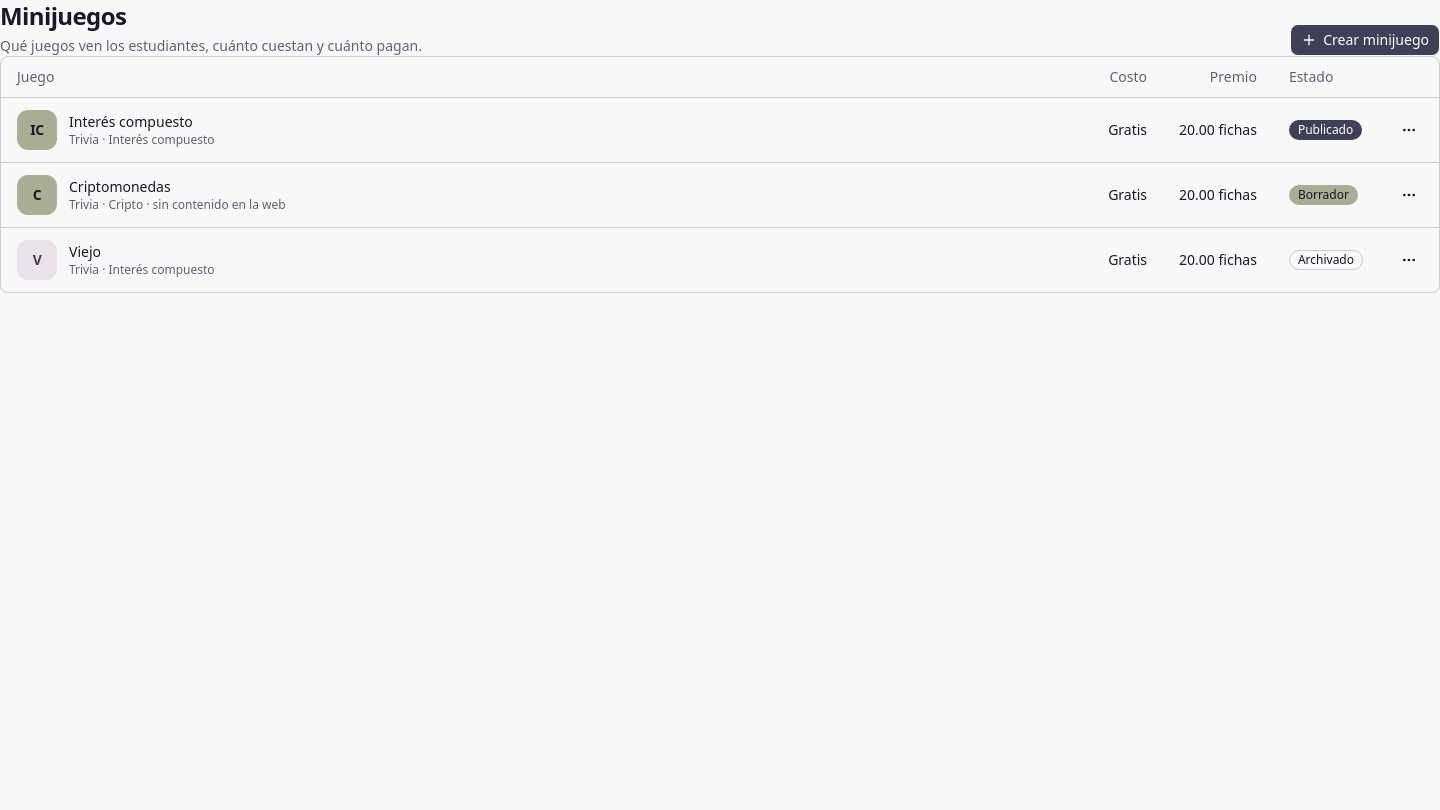
Test case: AdminMinigamesPage › un titulo repetido se marca en el campo
Click the button "Crear minijuego".
click(1365, 40)  # box [1290, 24, 1439, 56]
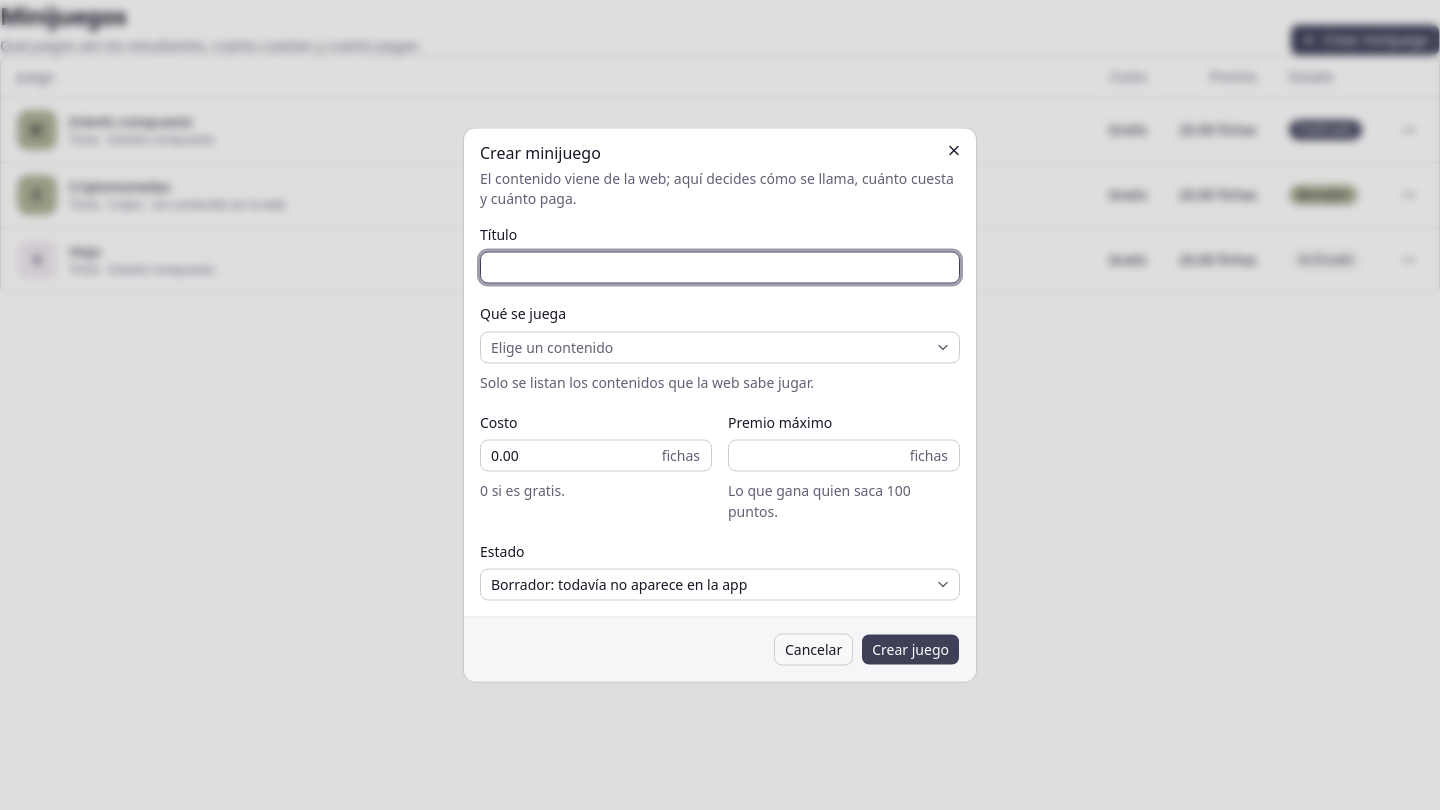
Type "Interés compuesto" into the field labelled "Título".
click(720, 268); type("Interés compuesto")  # box [480, 252, 960, 284]
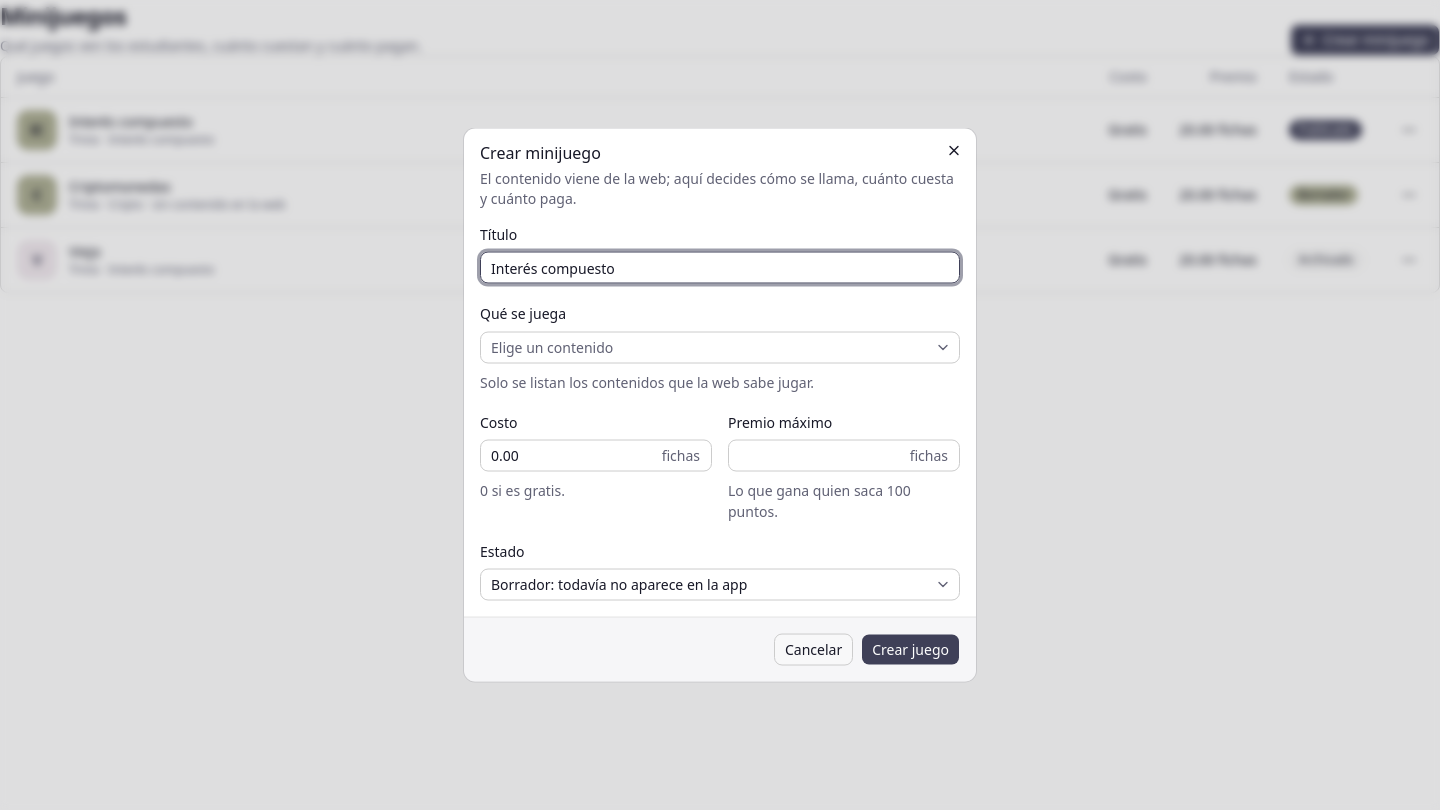
Click the dropdown named "Qué se juega".
click(552, 346)  # box [480, 331, 960, 363]
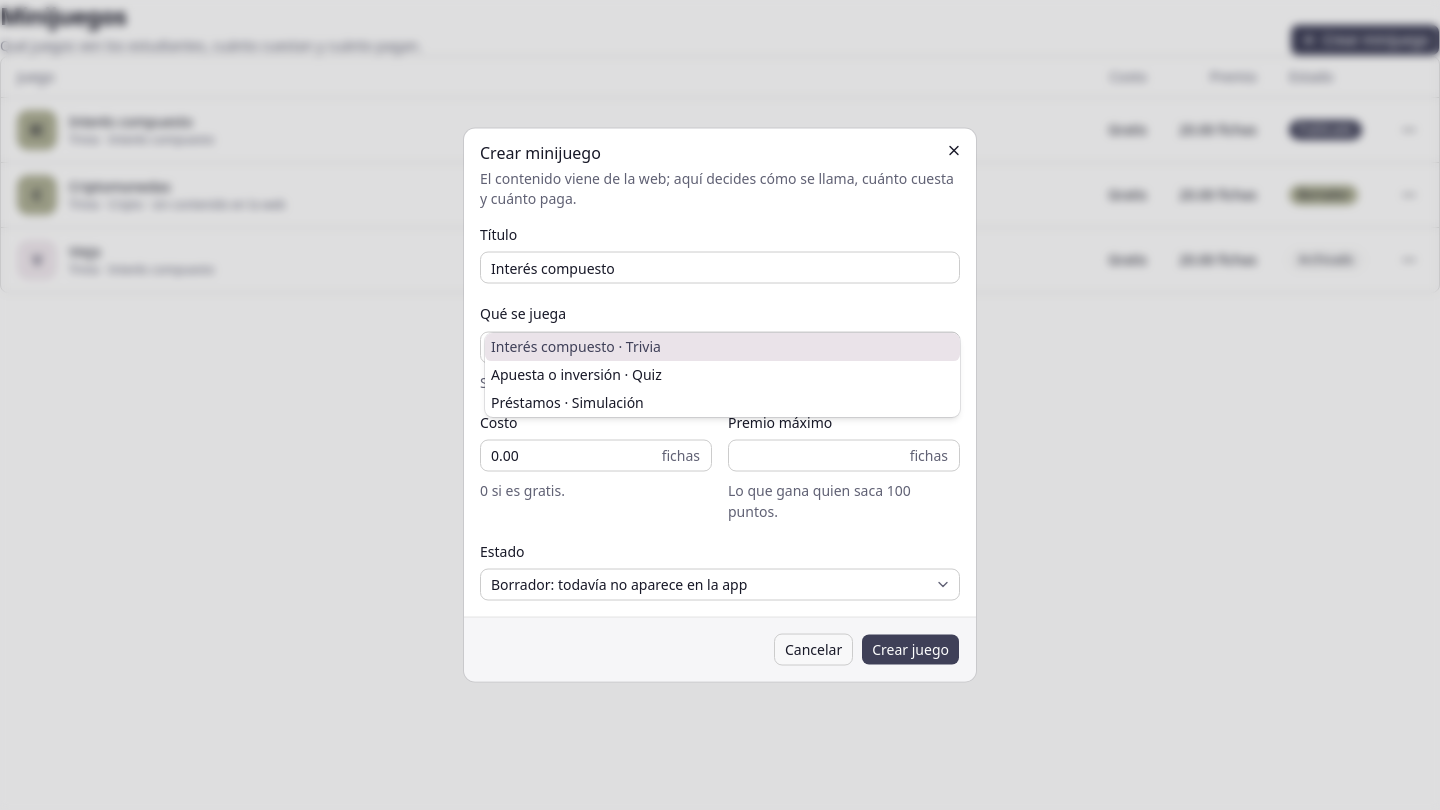
Click the option "Interés compuesto · Trivia".
click(553, 346)  # box [485, 333, 960, 361]
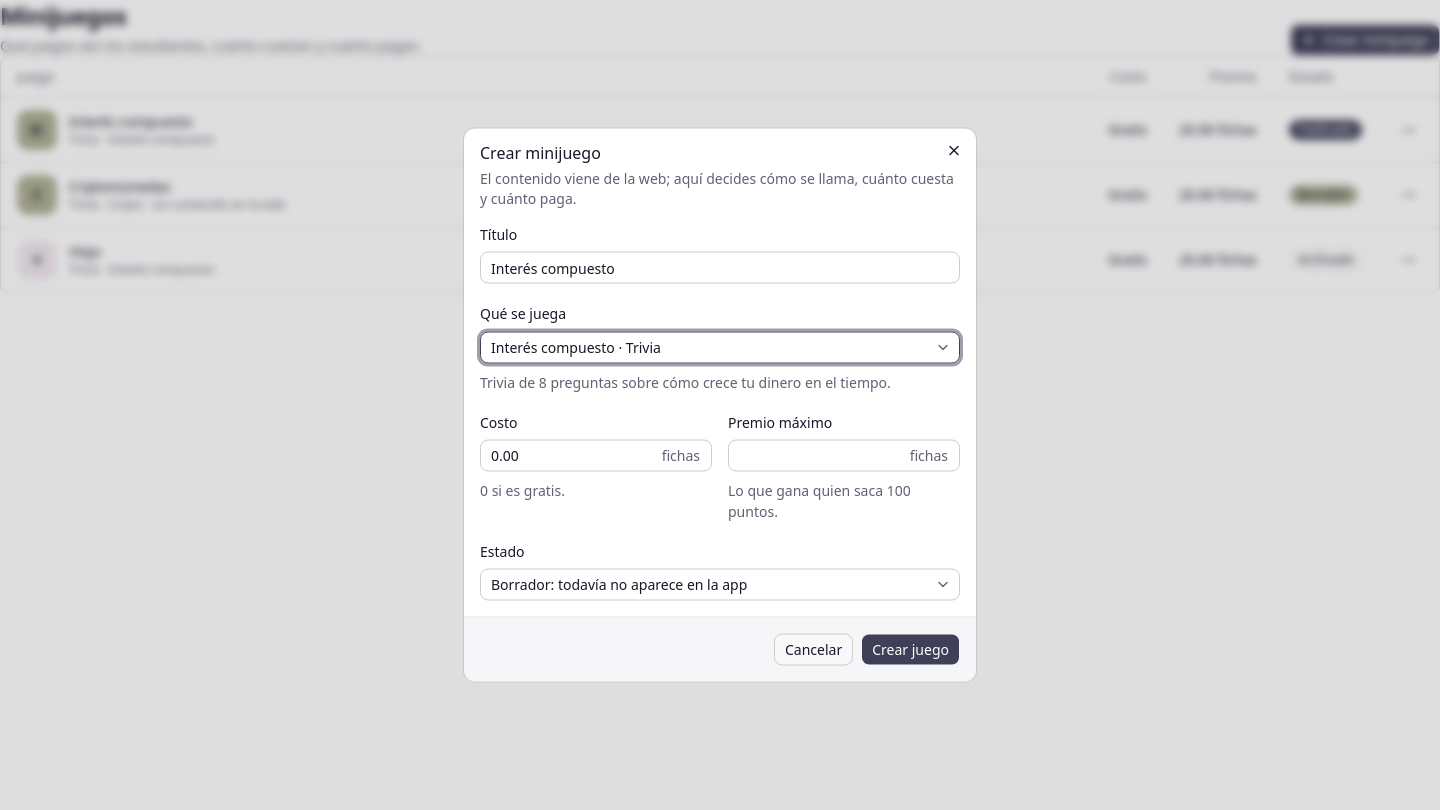
Type "20" into the field labelled "Premio máximo".
click(844, 455); type("20")  # box [728, 439, 960, 471]
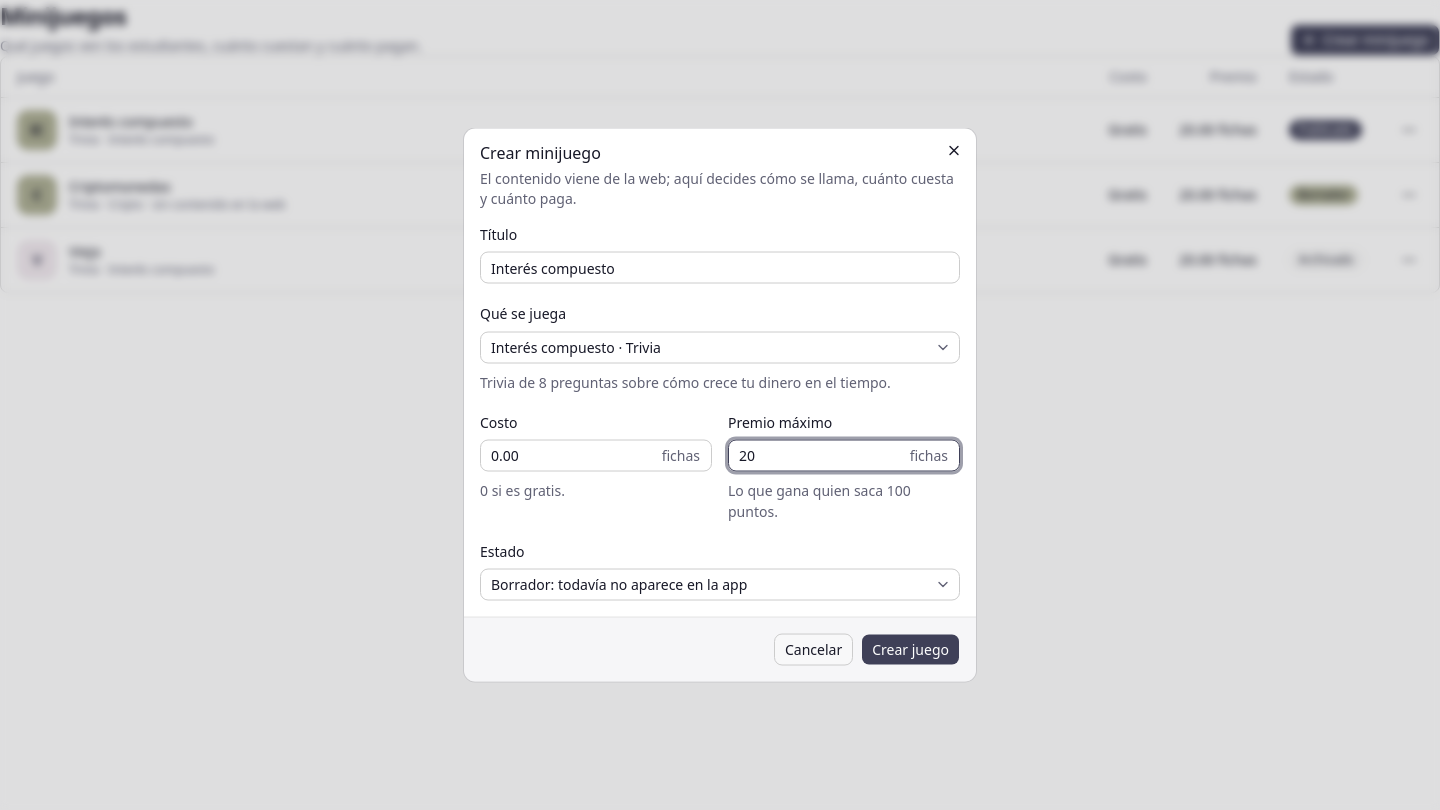
Click the button "Crear juego".
click(911, 650)  # box [861, 634, 960, 666]
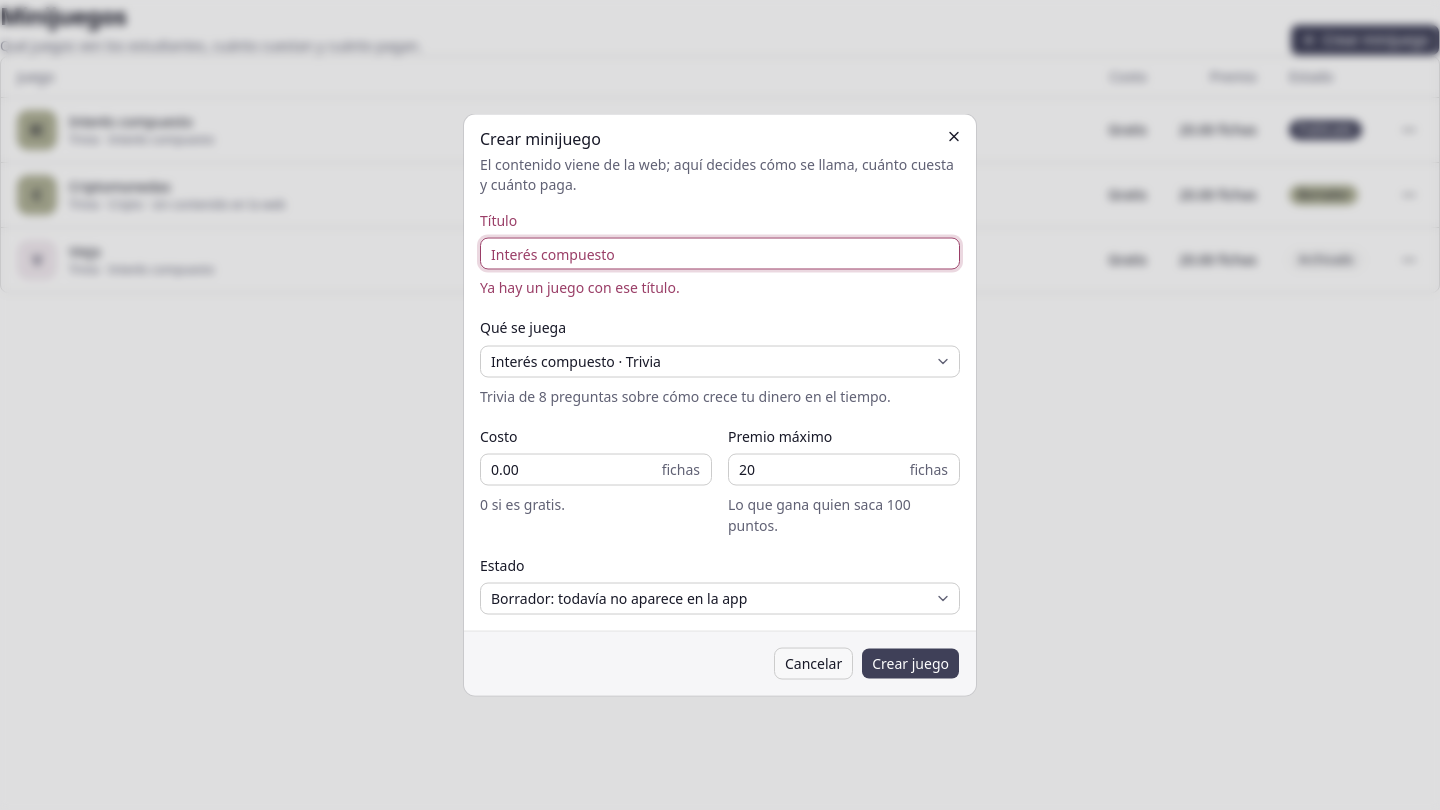
Result: the text "Ya hay un juego con ese título." is shown at [480, 278, 680, 297]
